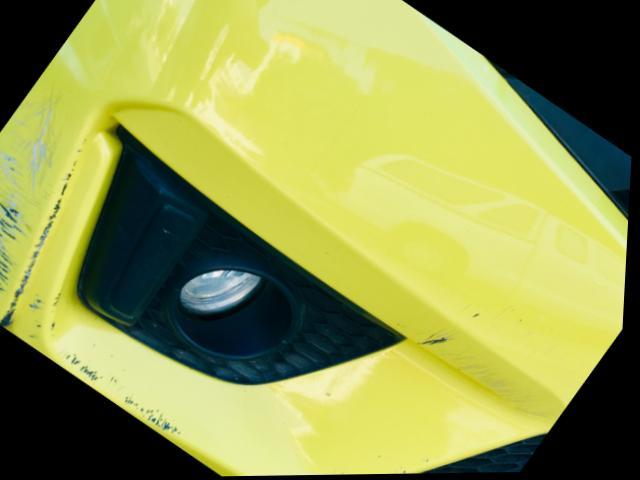scratch: (0, 91, 178, 439)
